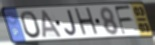8: (100, 6, 120, 36)
A: (41, 9, 64, 39)
F: (113, 4, 133, 36)
H: (73, 6, 101, 38)
J: (63, 9, 78, 37)
O: (20, 10, 43, 40)
